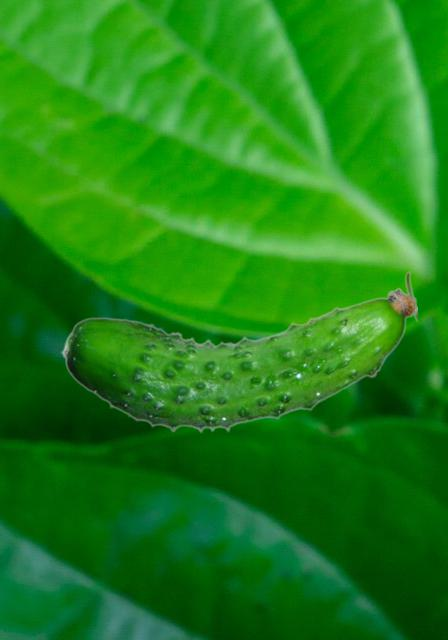cucumber: (60, 271, 416, 432)
